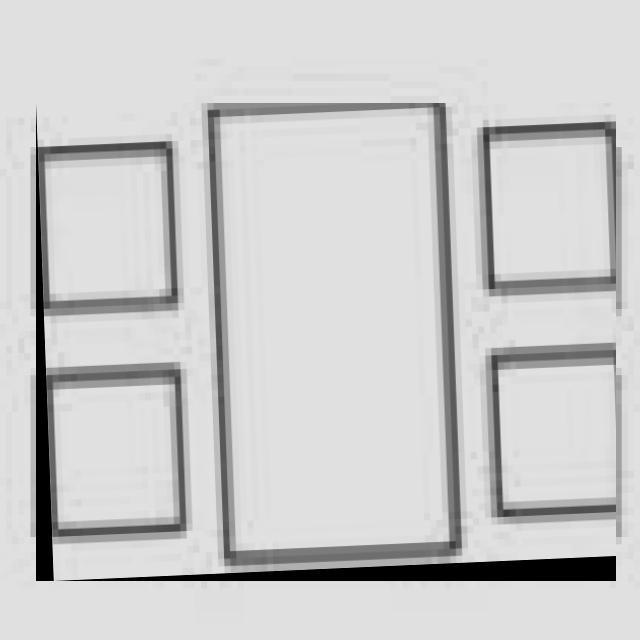table: (36, 103, 616, 581)
